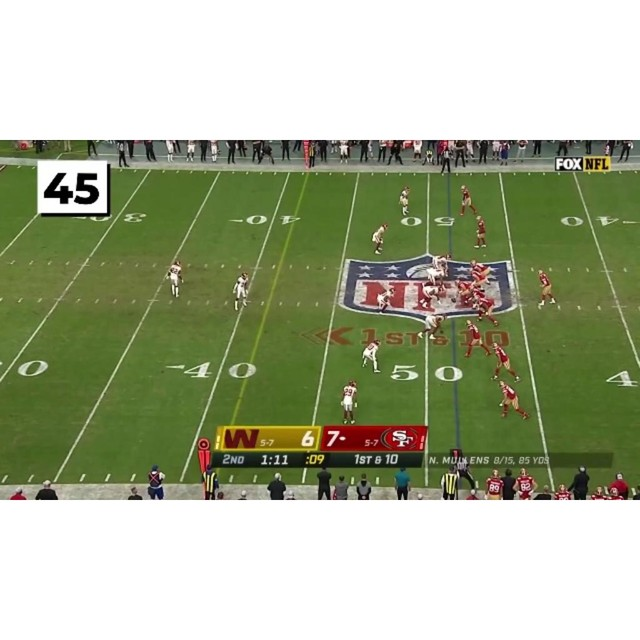american-football-player: (498, 380, 530, 419), (491, 343, 520, 381), (463, 320, 491, 357), (473, 292, 500, 327), (418, 312, 447, 341), (340, 379, 358, 425), (536, 269, 556, 307), (361, 338, 381, 373), (166, 259, 183, 297), (233, 271, 249, 310), (459, 184, 478, 216), (372, 222, 389, 255), (376, 286, 394, 314), (473, 215, 487, 249), (399, 185, 410, 214)
